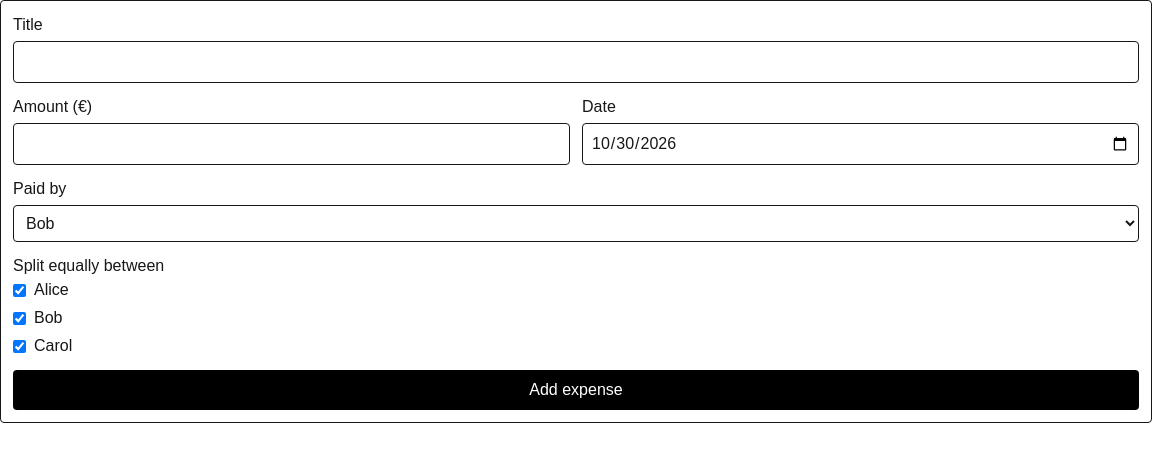
Scenario: ExpenseForm › rejectsInvalidAmountWithoutCallingTheServer
This screenshot has width=1152, height=476.
Type "Taxi" into the field labelled "Title" at coordinates (576, 62), box top-left (13, 41), bottom-right (1139, 83)
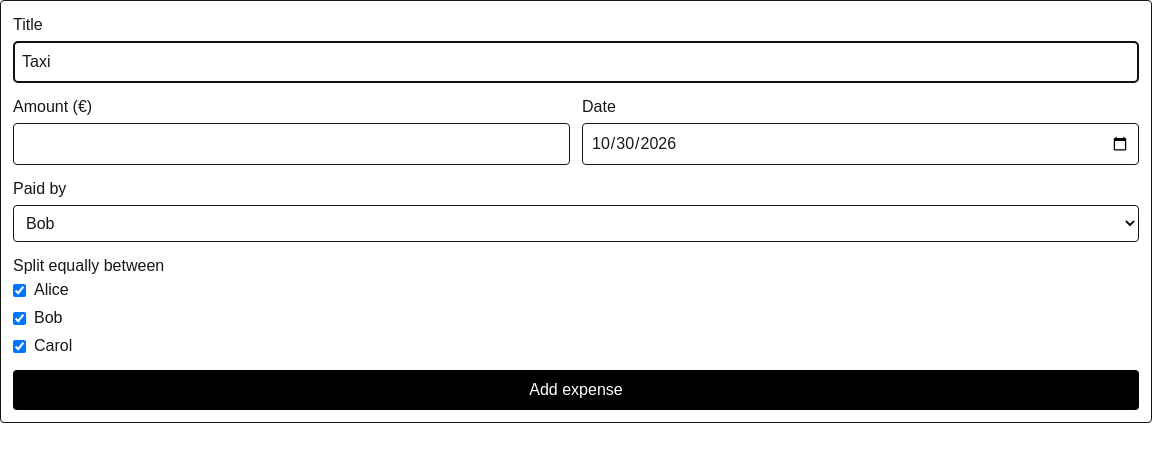
Type "1.000,50" into the field labelled "Amount (€)" at coordinates (292, 144), box top-left (13, 123), bottom-right (570, 165)
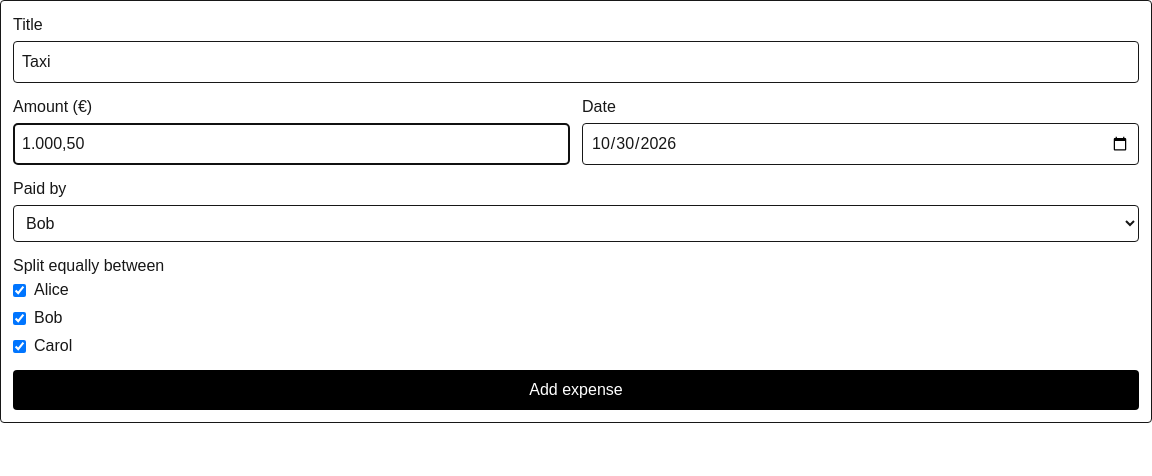
Click the button "Add expense" at coordinates (576, 390), box top-left (13, 370), bottom-right (1139, 410)
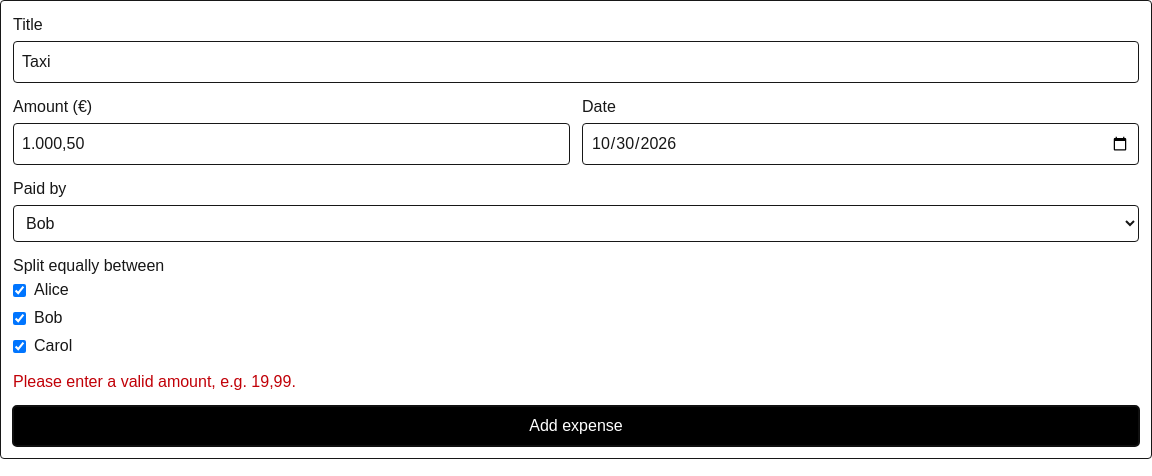
Result: the message shows "valid amount" at top-left (13, 373), bottom-right (296, 390)
